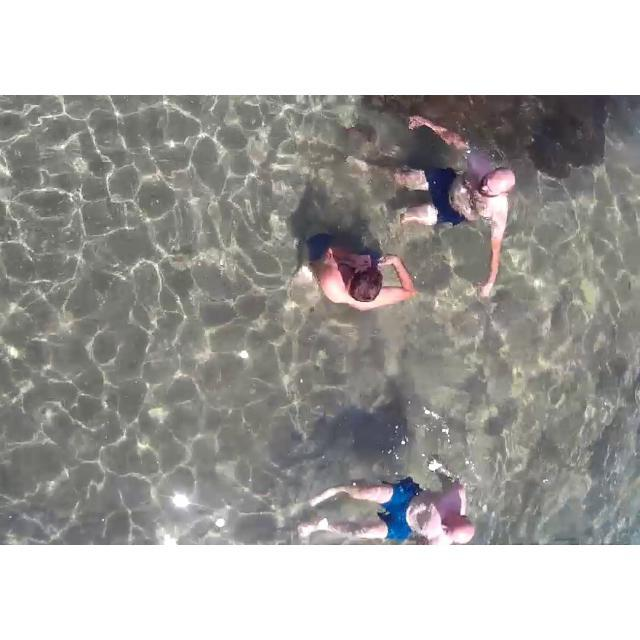human: (396, 96, 520, 309), (304, 220, 421, 326)
